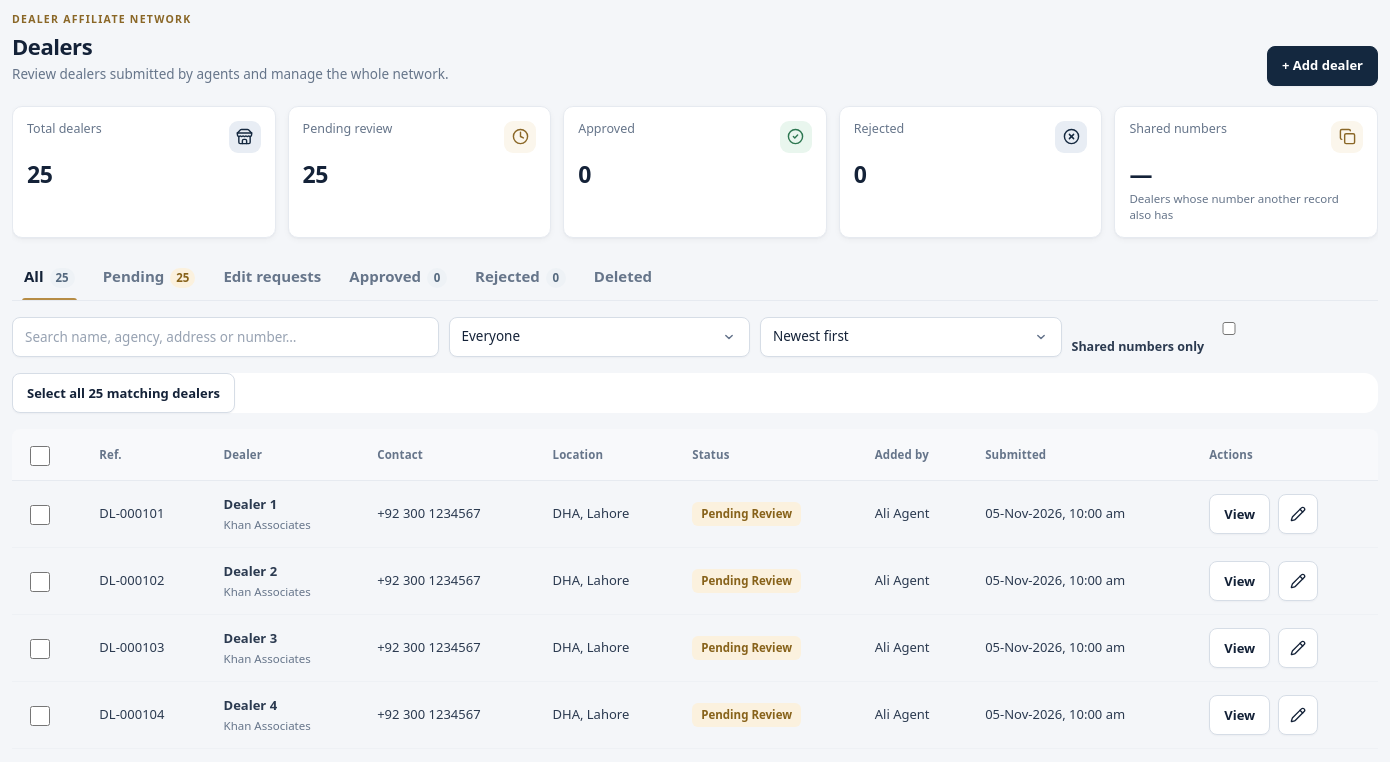
Test case: administrators' bulk actions › Select all takes every matching dealer, from every page
Step 1. Click the button "Select all 25 matching dealers" → (124, 393), box [12,373,235,413]
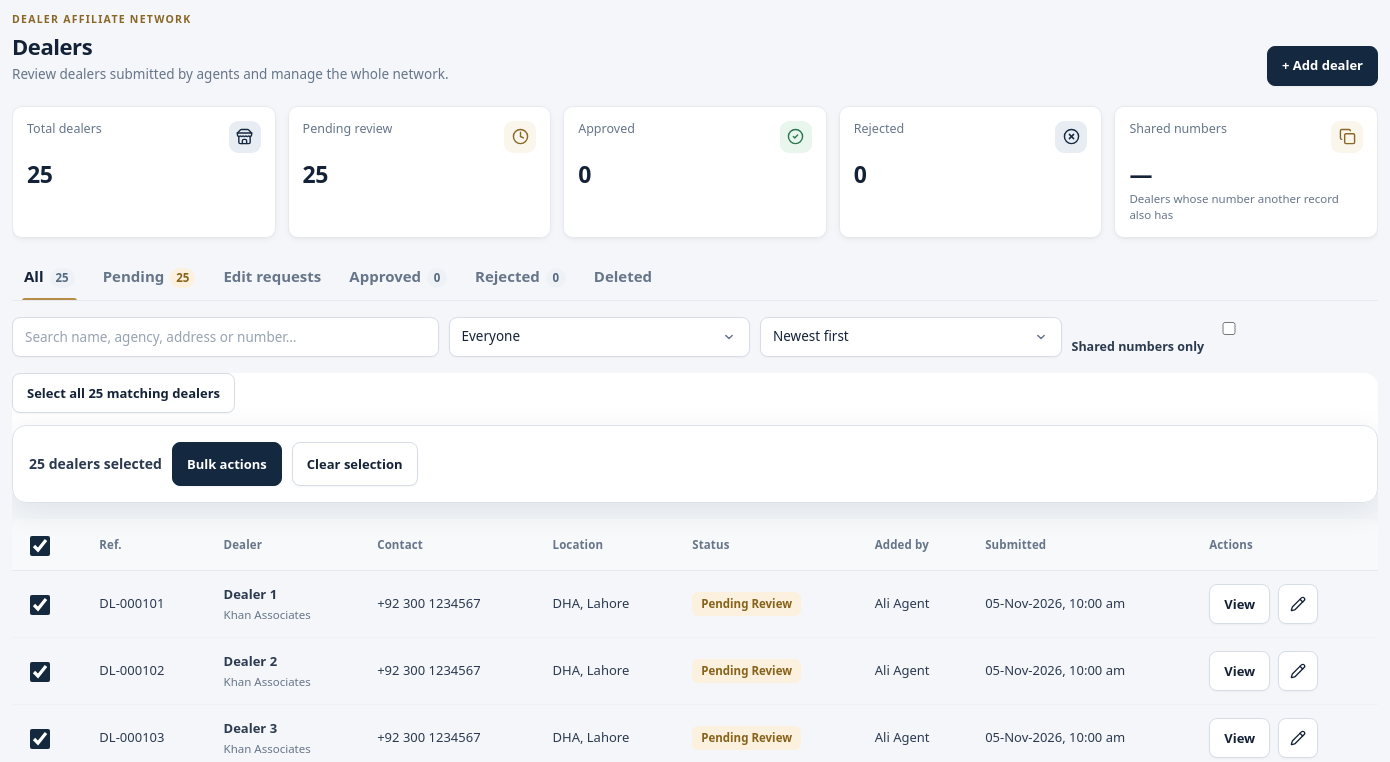
Expected: the text "25 dealers selected" is shown, [29,454,162,474]
